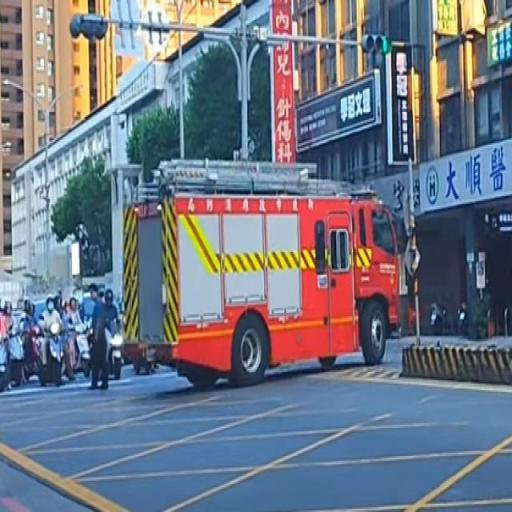fire truck: (118, 155, 402, 383)
